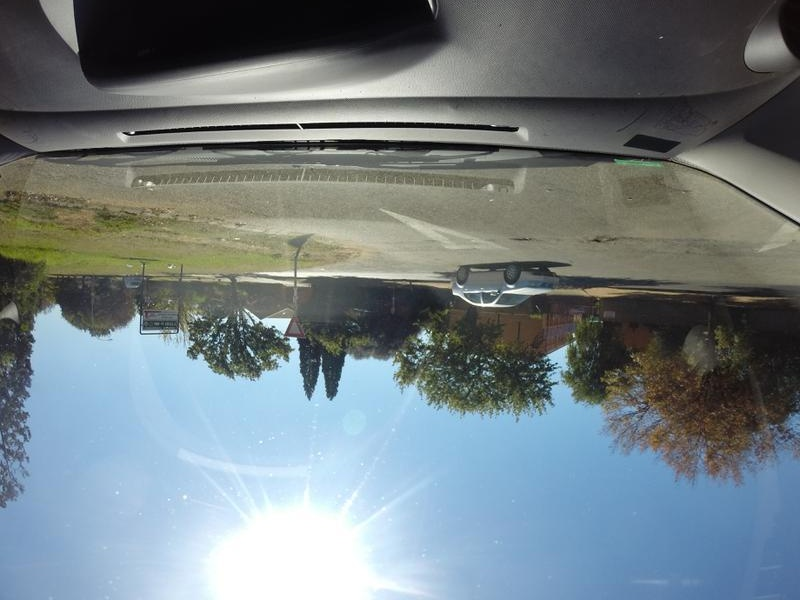pothole: (505, 235, 545, 245), (589, 235, 627, 245)
